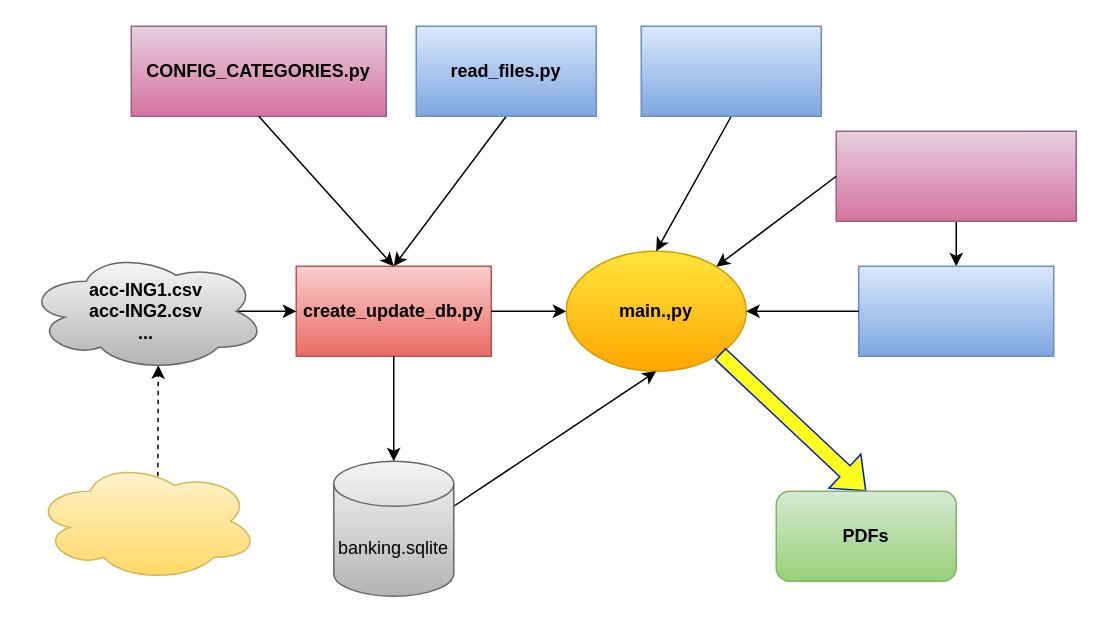
Image size: 1103x623. Some labels were removed from this diagram. The centre of each missing label's shape, as x and y in pixels:
"CONFIG.py" goes at (955,175).
"create_csv_test.py" goes at (145,520).
"define_final_info.py" goes at (955,310).
"SQL_queries.py" goes at (730,70).
